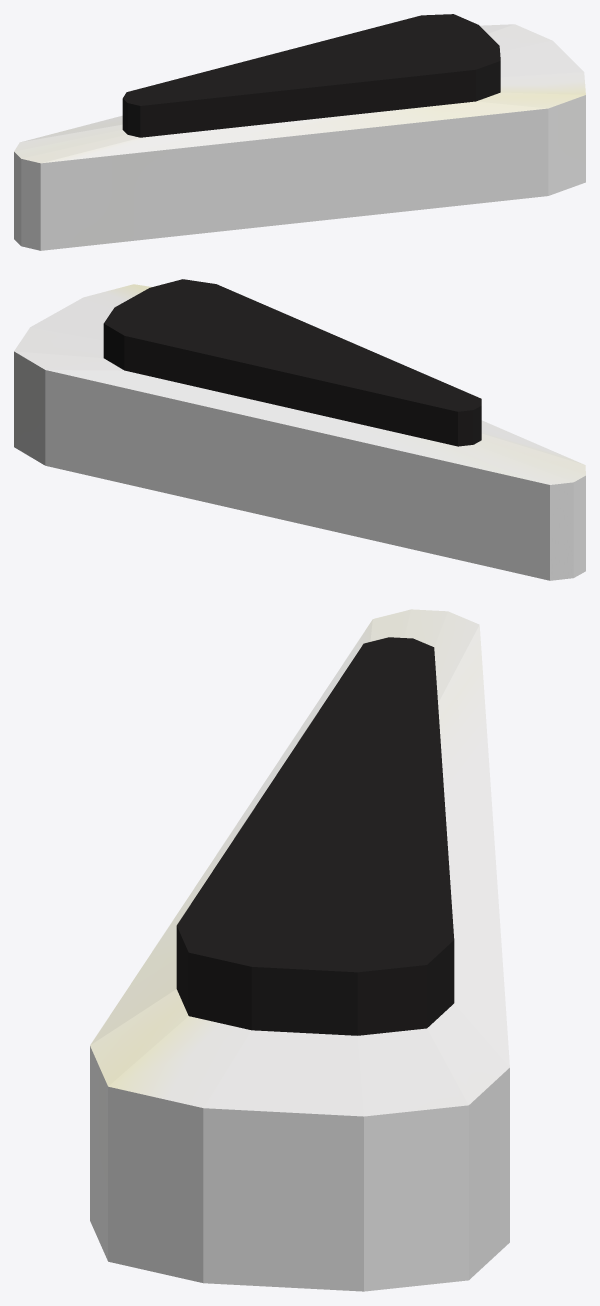
The model's file is RightPaddle.fbx.
3 views of the same model, one above another, from view 1: azimuth 30°, elevation 25°; view 2: azimuth 150°, elevation 25°; view 3: azimuth 270°, elevation 25° (orthographic). The views are drawn at different scales.
Parts seen in each view (by area): view 1: Plane; view 2: Plane; view 3: Plane.
Boxes of the visible parts, x1,y1,x2,y2 form: Plane: (14, 14, 585, 250); Plane: (14, 279, 585, 580); Plane: (90, 609, 509, 1291).
Bounding box in the file's own units: 38.93 × 8.79 × 13.63.
